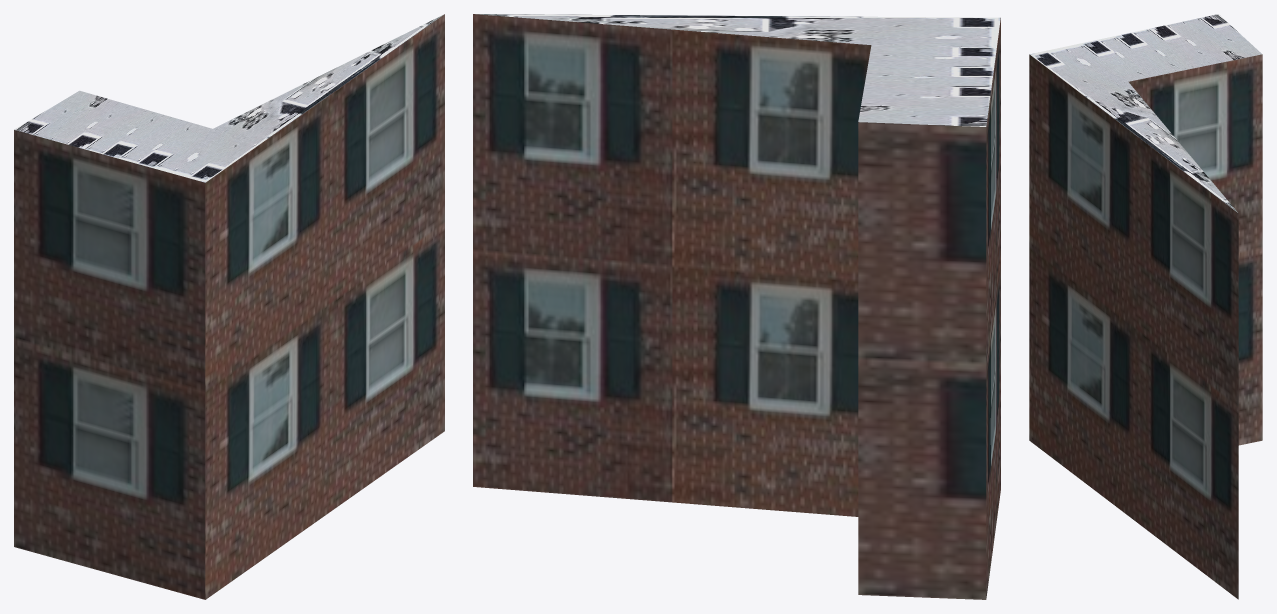
The model's file is ResTex__5340.fbx.
3 views of the same model, side by side, from view 1: azimuth 30°, elevation 25°; view 2: azimuth 150°, elevation 25°; view 3: azimuth 270°, elevation 25° (orthographic). The views are drawn at different scales.
Parts seen in each view (by area): view 1: CityEngineMaterial_14_m, CityEngineMaterial_m; view 2: CityEngineMaterial_14_m, CityEngineMaterial_m; view 3: CityEngineMaterial_14_m, CityEngineMaterial_m.
Boxes of the visible parts, left/top/right/bottom form: CityEngineMaterial_14_m: left=14, top=14, right=444, bottom=599; CityEngineMaterial_m: left=14, top=15, right=442, bottom=182; CityEngineMaterial_14_m: left=473, top=14, right=1000, bottom=599; CityEngineMaterial_m: left=475, top=14, right=1000, bottom=126; CityEngineMaterial_14_m: left=1029, top=54, right=1262, bottom=599; CityEngineMaterial_m: left=1030, top=14, right=1261, bottom=212.
Size of the model in its own units: 6.65 by 6 by 3.28.
2 materials, 2 textured.
